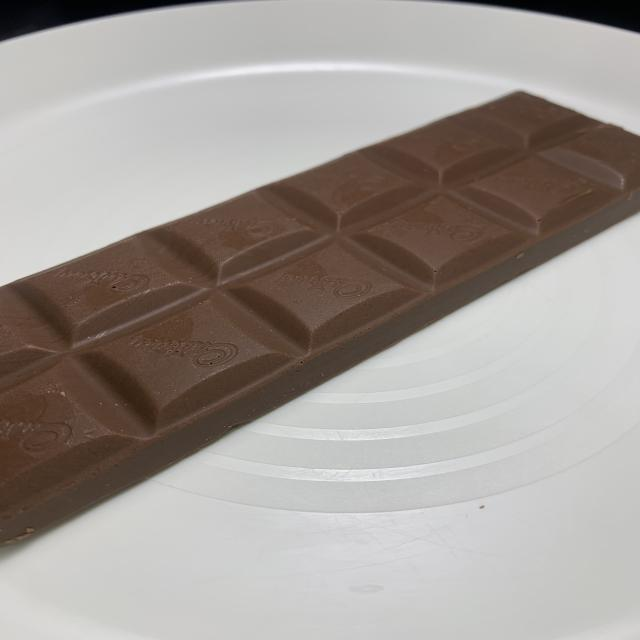Chocolate: (0, 89, 640, 554)
